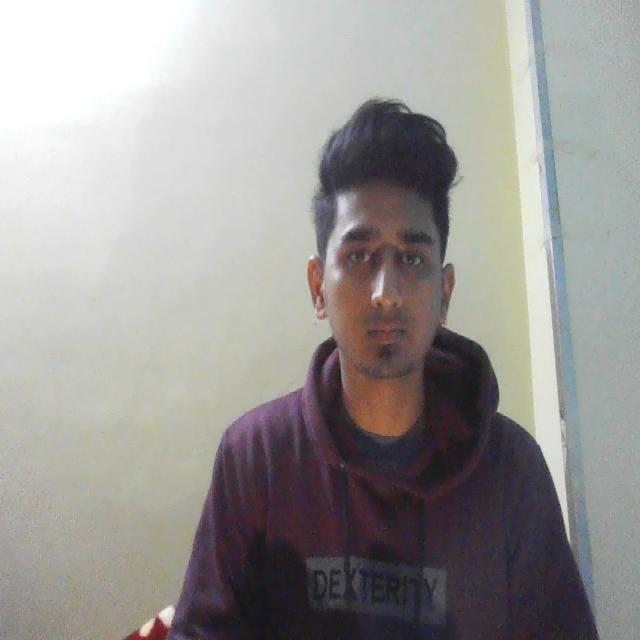real: (315, 125, 462, 404)
